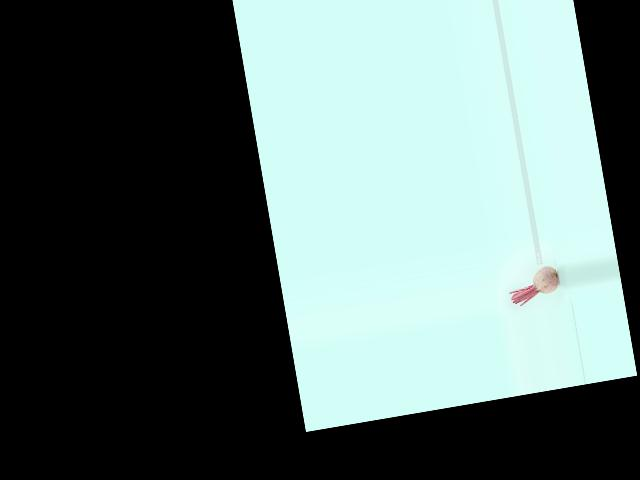beet: (506, 264, 562, 307)
